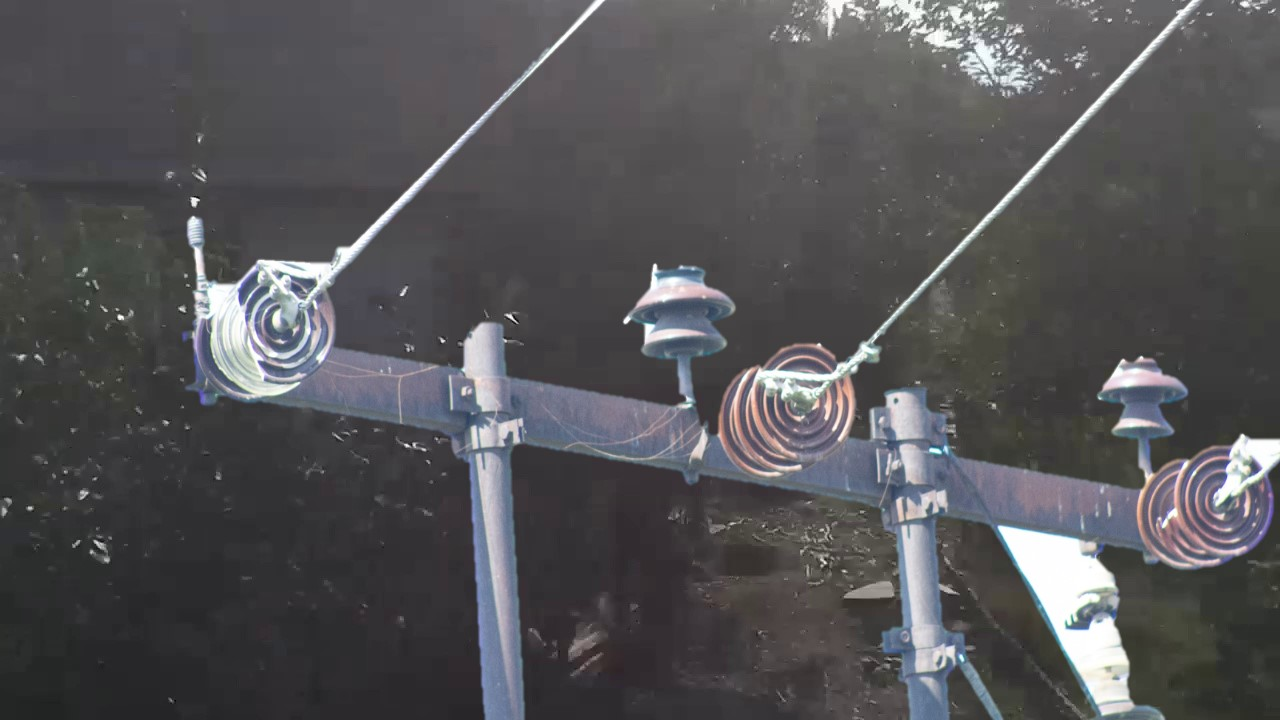defect_disc: (235, 255, 343, 388)
insulator_disc: (747, 332, 858, 464), (1175, 440, 1269, 566)
